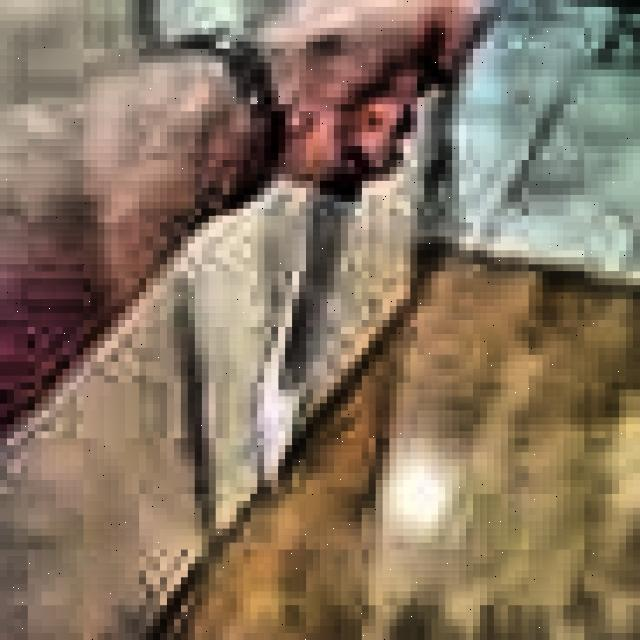knife: (256, 160, 367, 489)
